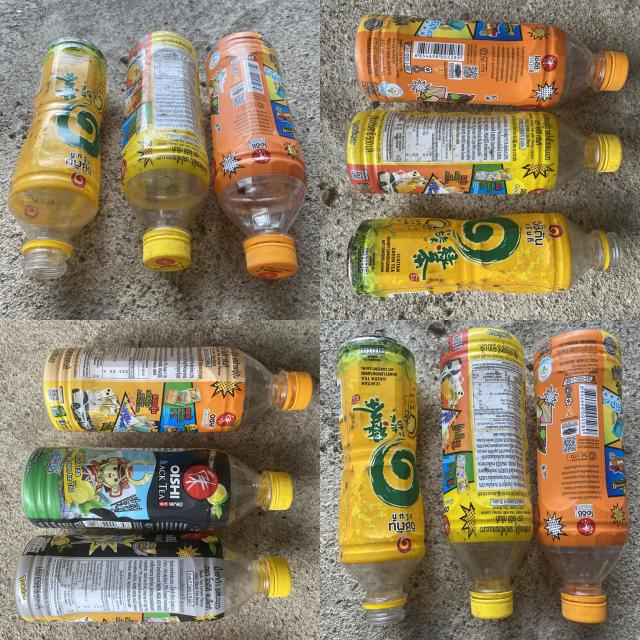plastik: (534, 330, 629, 623), (441, 328, 532, 619), (355, 15, 628, 109), (338, 335, 425, 624), (206, 32, 305, 279), (15, 534, 291, 622), (8, 38, 106, 279), (44, 346, 311, 432), (348, 110, 621, 194), (346, 214, 621, 297), (22, 448, 292, 530), (120, 31, 210, 271)
